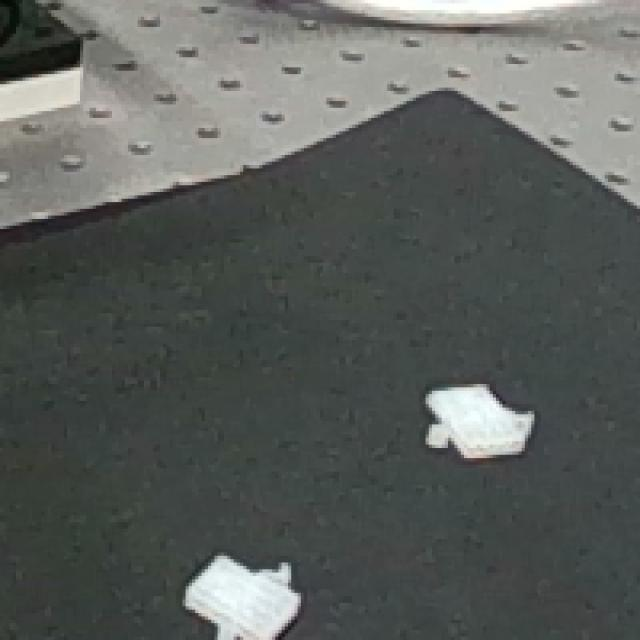pick: (157, 529, 323, 640), (399, 359, 544, 483)
